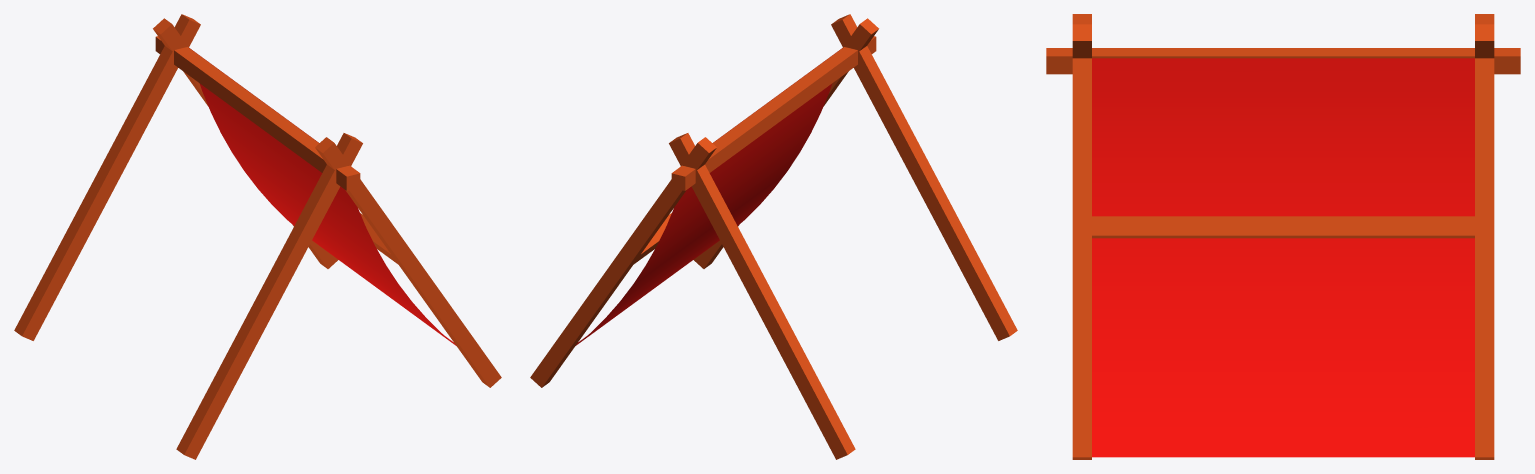
Rendered from tentHalf.obj.
3 views of the same model, side by side, from view 1: azimuth 30°, elevation 25°; view 2: azimuth 150°, elevation 25°; view 3: azimuth 270°, elevation 25° (orthographic). The views are drawn at different scales.
Parts seen in each view (by area): view 1: tentHalf; view 2: tentHalf; view 3: tentHalf.
Part boxes in pixels (left/top/right/bottom): tentHalf: left=14, top=14, right=501, bottom=459; tentHalf: left=530, top=14, right=1017, bottom=459; tentHalf: left=1046, top=14, right=1520, bottom=459.
Size of the model in its own units: 0.5392 by 0.4598 by 0.5623.
